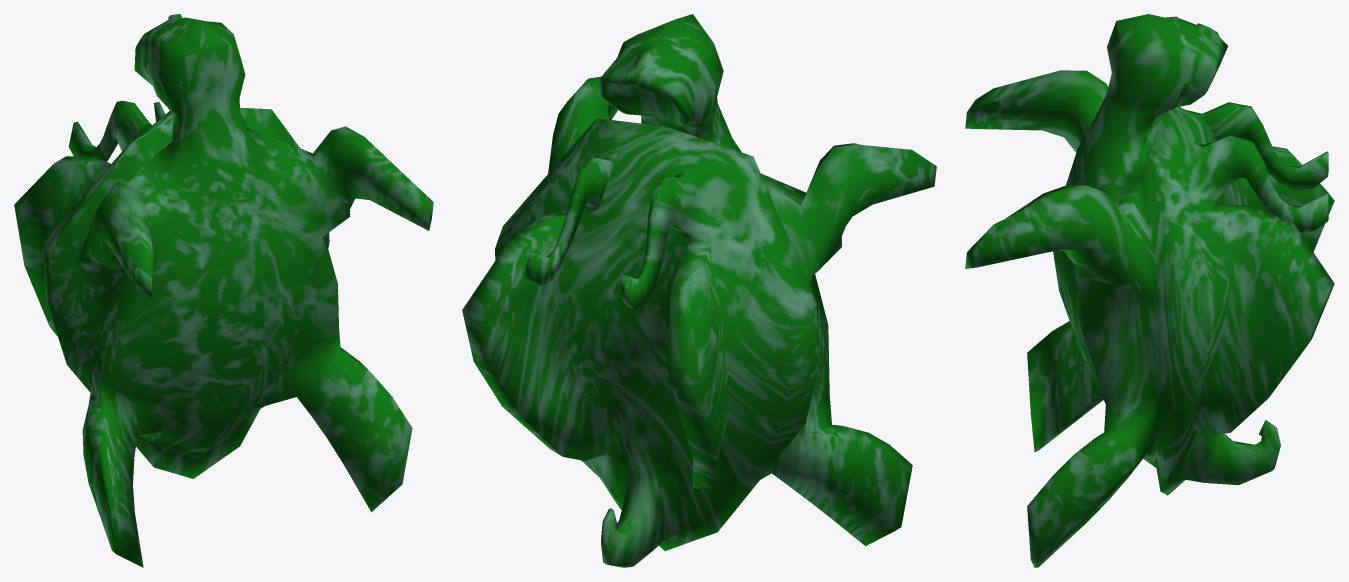
The model's file is relic bedawang.fbx.
The picture shows the model from 3 angles, left to right: view 1: azimuth 30°, elevation 25°; view 2: azimuth 150°, elevation 25°; view 3: azimuth 270°, elevation 25°; orthographic projection. The views are drawn at different scales.
Parts seen in each view (by area): view 1: Cube; view 2: Cube; view 3: Cube.
Part boxes in pixels (left/top/right/bottom): Cube: left=14, top=14, right=433, bottom=567; Cube: left=462, top=14, right=936, bottom=567; Cube: left=965, top=14, right=1334, bottom=567.
Size of the model in its own units: 20.12 by 30.32 by 20.46.
